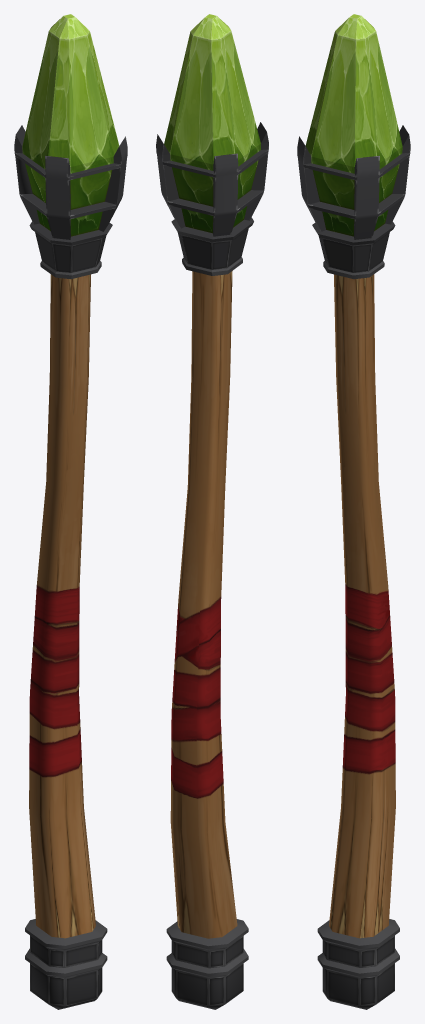
File: Staff Redo.fbx
The picture shows the model from 3 angles, left to right: view 1: azimuth 30°, elevation 25°; view 2: azimuth 150°, elevation 25°; view 3: azimuth 330°, elevation 25°; orthographic projection.
Visible parts, largest first — view 1: Staff_14; view 2: Staff_14; view 3: Staff_14.
Boxes of the visible parts, x1,y1,x2,y2 form: Staff_14: [14, 14, 127, 1009]; Staff_14: [156, 14, 268, 1009]; Staff_14: [297, 14, 410, 1009].
Size of the model in its own units: 13.02 by 148 by 13.92.
